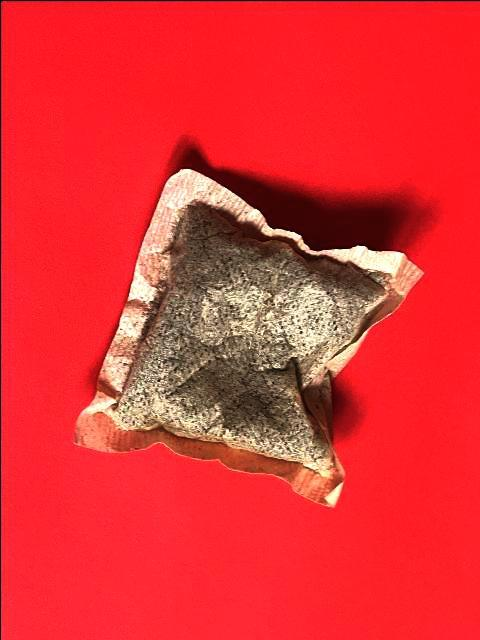teabag: (70, 165, 427, 511)
